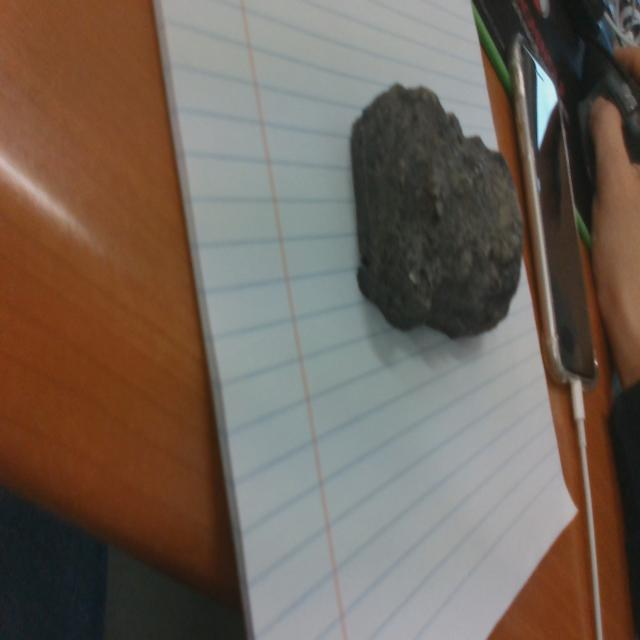stone: (349, 83, 526, 342)
